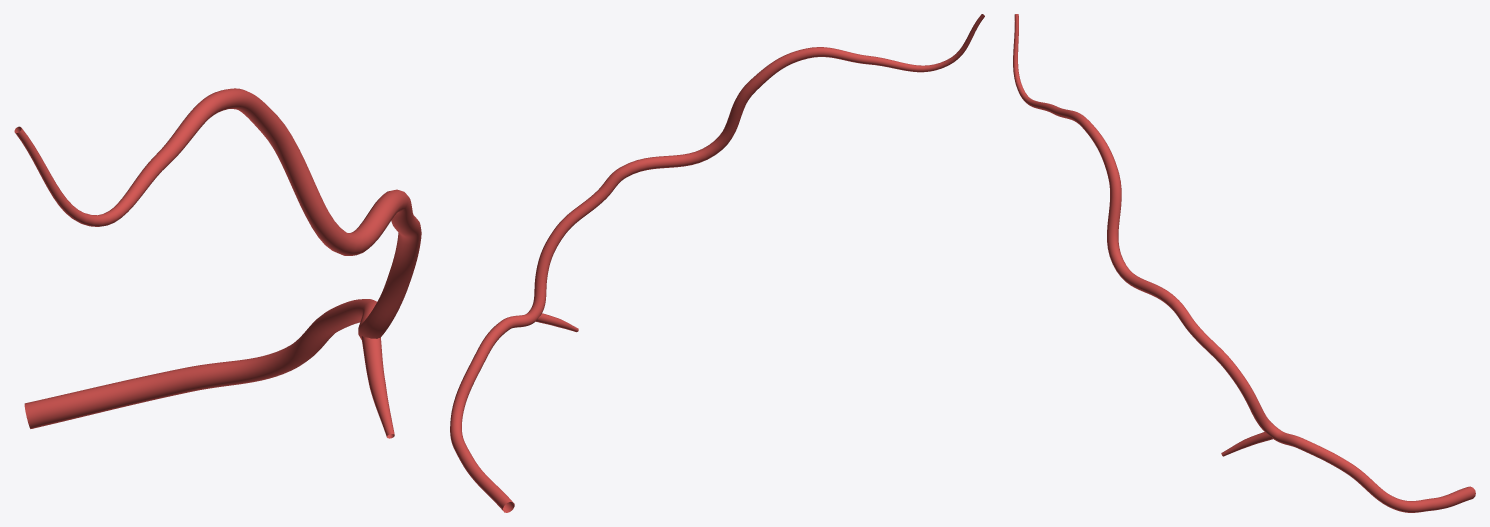
3 views of the same model, side by side, from view 1: azimuth 30°, elevation 25°; view 2: azimuth 150°, elevation 25°; view 3: azimuth 270°, elevation 25° (orthographic). The views are drawn at different scales.
Visible parts, largest first — view 1: 左侧中央后沟动脉; view 2: 左侧中央后沟动脉; view 3: 左侧中央后沟动脉.
Part boxes in pixels (left/top/right/bottom): 左侧中央后沟动脉: left=14, top=88, right=421, bottom=438; 左侧中央后沟动脉: left=450, top=14, right=984, bottom=512; 左侧中央后沟动脉: left=1013, top=14, right=1475, bottom=512.
Size of the model in its own units: 0.068 by 0.073 by 0.0822.
